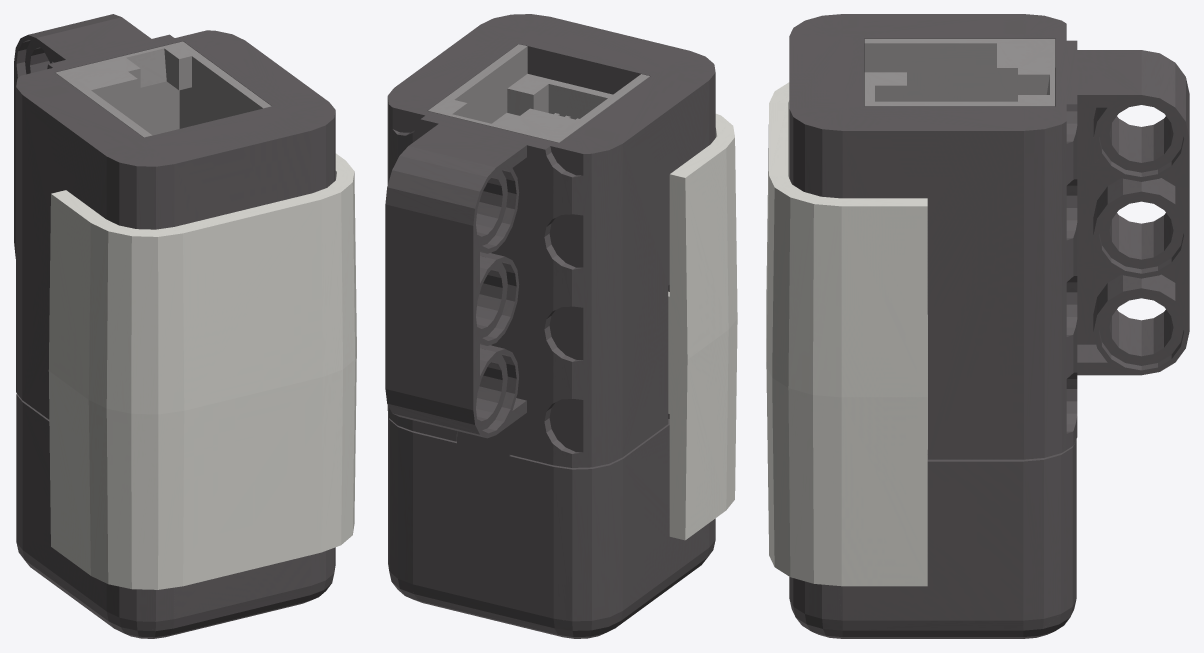
3 renders of one model, left to right at view 1: azimuth 30°, elevation 25°; view 2: azimuth 150°, elevation 25°; view 3: azimuth 270°, elevation 25°, orthographic. The views are drawn at different scales.
Parts seen in each view (by area): view 1: node; view 2: node; view 3: node.
Part boxes in pixels (x1,y1,x2,y2): node: (14,14,356,638); node: (385,14,737,638); node: (766,14,1189,638).
Bounding box in the file's own units: 60 × 106 × 78.75.
1 material, 1 textured.
